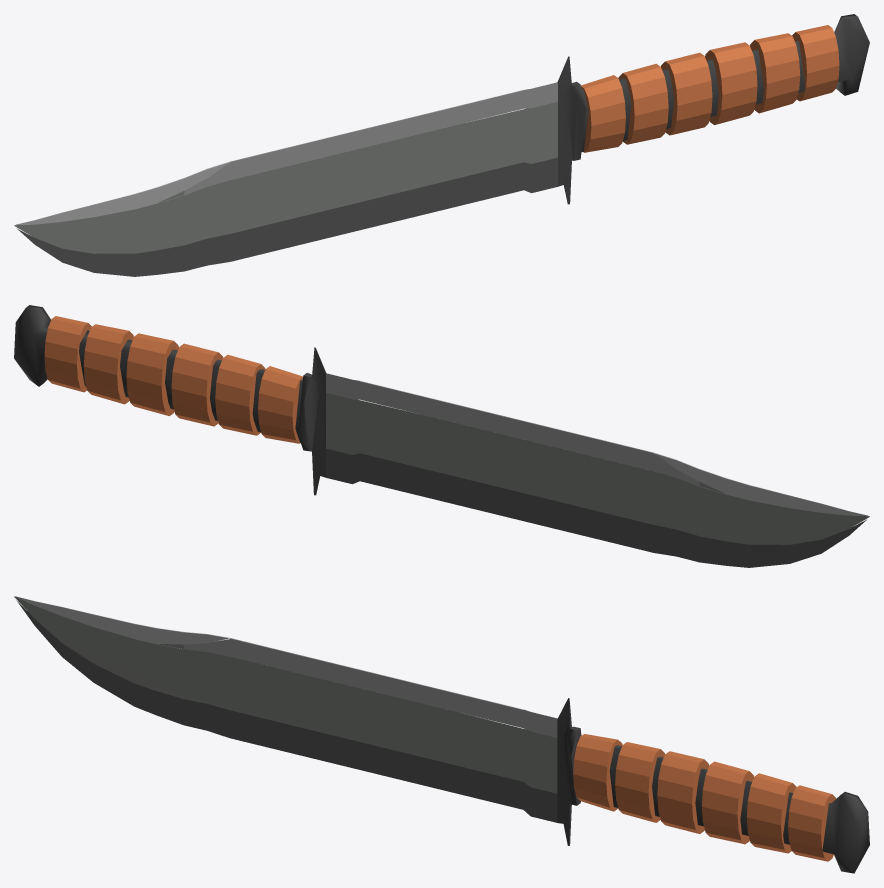
3 views of the same model, one above another, from view 1: azimuth 30°, elevation 25°; view 2: azimuth 150°, elevation 25°; view 3: azimuth 330°, elevation 25° (orthographic).
Parts seen in each view (by area): view 1: Cylinder (×5), Cylinder.003, Cylinder.004, Cylinder.005, Cylinder.002, Cylinder.006, Cylinder.001; view 2: Cylinder (×5), Cylinder.003, Cylinder.004, Cylinder.005, Cylinder.002, Cylinder.006, Cylinder.001; view 3: Cylinder (×5), Cylinder.003, Cylinder.004, Cylinder.002, Cylinder.005, Cylinder.006, Cylinder.001.
Part boxes in pixels (left/top/right/bottom): Cylinder (×5): left=14, top=14, right=869, bottom=276; Cylinder.003: left=705, top=42, right=757, bottom=124; Cylinder.004: left=661, top=52, right=712, bottom=135; Cylinder.005: left=618, top=63, right=668, bottom=144; Cylinder.002: left=750, top=33, right=800, bottom=113; Cylinder.006: left=581, top=75, right=625, bottom=152; Cylinder.001: left=792, top=25, right=839, bottom=101; Cylinder (×5): left=14, top=305, right=869, bottom=567; Cylinder.003: left=126, top=333, right=178, bottom=416; Cylinder.004: left=171, top=343, right=222, bottom=426; Cylinder.005: left=215, top=354, right=265, bottom=435; Cylinder.002: left=83, top=324, right=133, bottom=404; Cylinder.006: left=258, top=366, right=303, bottom=443; Cylinder.001: left=44, top=316, right=91, bottom=392; Cylinder (×5): left=14, top=596, right=869, bottom=873; Cylinder.003: left=702, top=761, right=754, bottom=844; Cylinder.004: left=657, top=751, right=709, bottom=833; Cylinder.002: left=746, top=773, right=796, bottom=853; Cylinder.005: left=615, top=742, right=664, bottom=822; Cylinder.006: left=573, top=734, right=622, bottom=811; Cylinder.001: left=788, top=785, right=836, bottom=861.
Size of the model in its own units: 7.52 by 1.25 by 0.3151.
